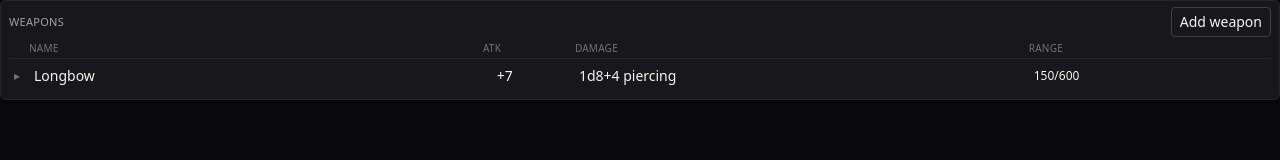
Test: WeaponsTable › allows overriding the attack bonus and resetting it
Step 1. Replace the text in the field named "Attack bonus" with "9" → (505, 76), box x1=483 y1=63 x2=527 y2=89
Then press Enter
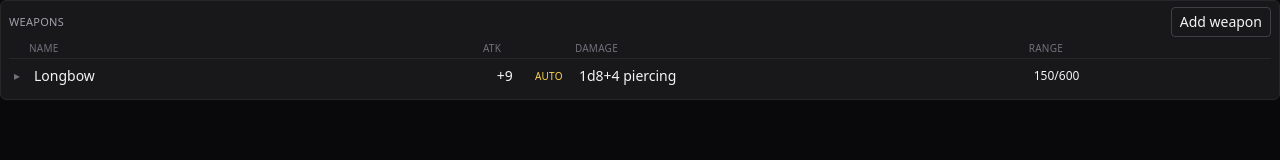
Expected: the field named "Attack bonus" holds "+9", x1=483 y1=63 x2=527 y2=89
Step 2. Click the button with aria-label "Reset Attack bonus to auto" → (549, 76), box x1=531 y1=66 x2=567 y2=86
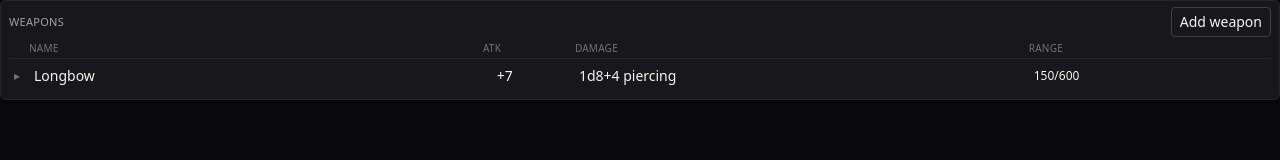
Expected: the field named "Attack bonus" holds "+7", x1=483 y1=63 x2=527 y2=89
